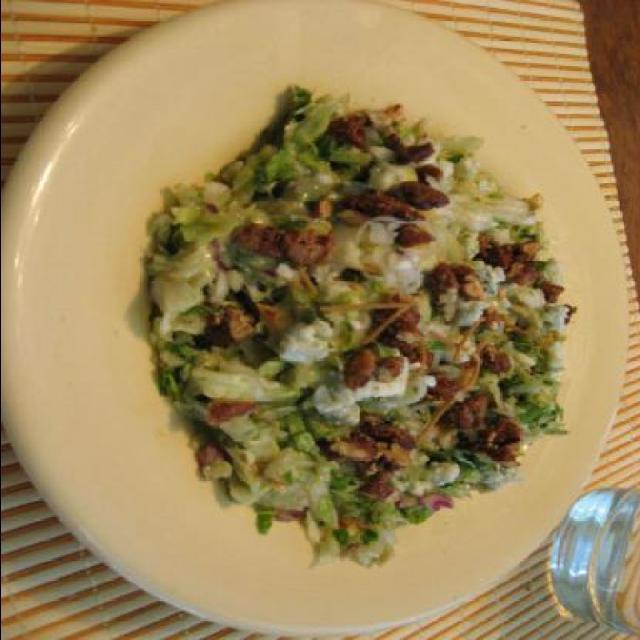Salad: (138, 87, 588, 545)
